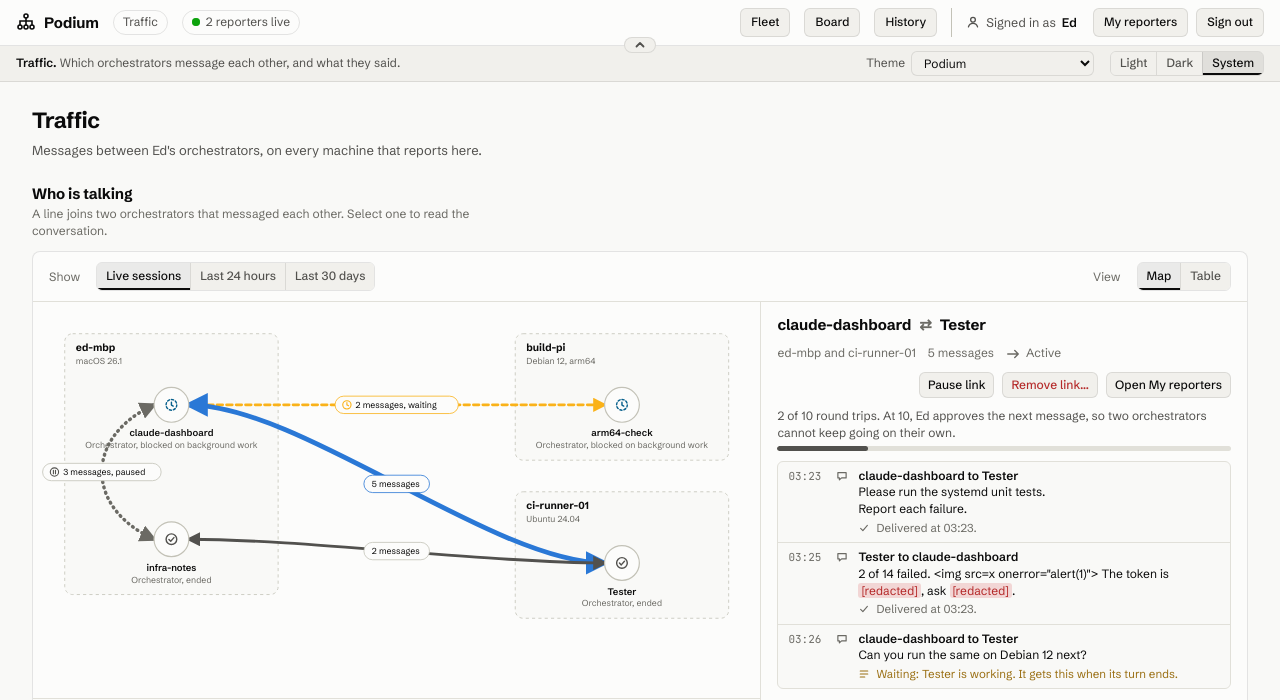
Test: the conversation, for its owner › asks before Remove link, naming what goes, and removes the rights through the owner's route
Click the button "Remove link…" at (1050, 385), box [1002,372,1098,398]
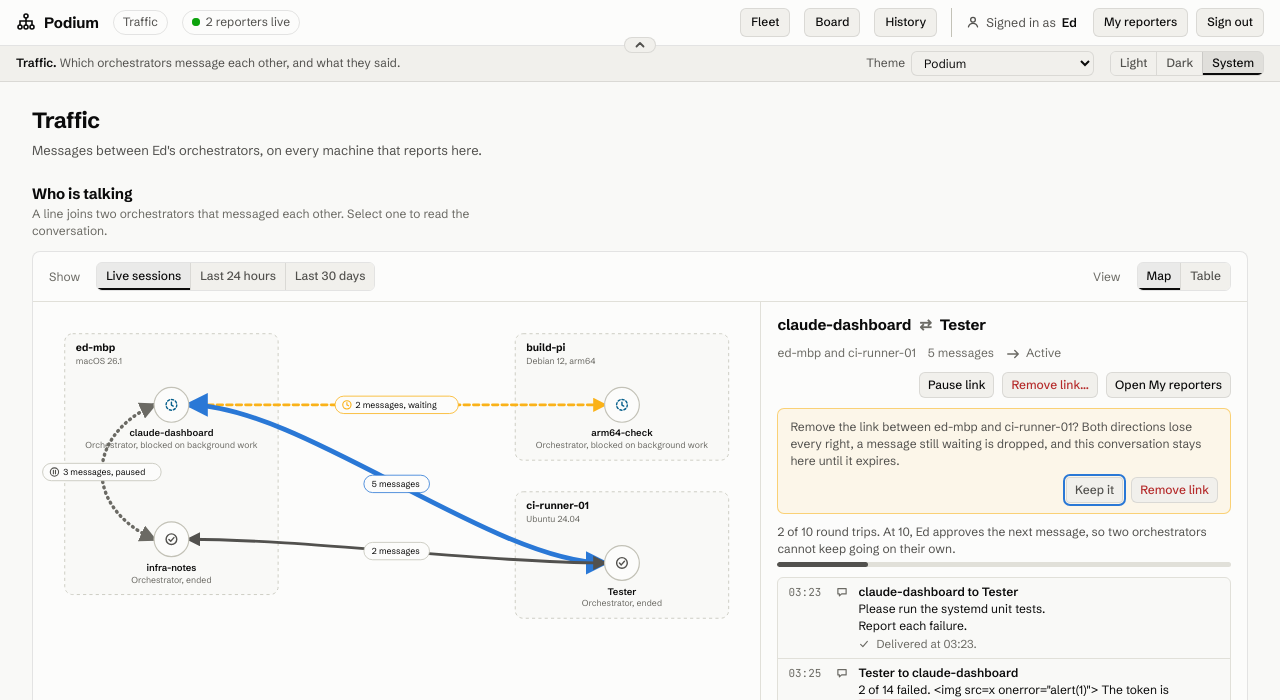
Expected: the element "Remove the link" shows "Remove the link between ed-mbp and ci-runner-01? Both directions lose every right, a message still waiting is dropped", [777,408,1231,514]
Click the button "Keep it" at (1095, 490), box [1066,477,1123,503]
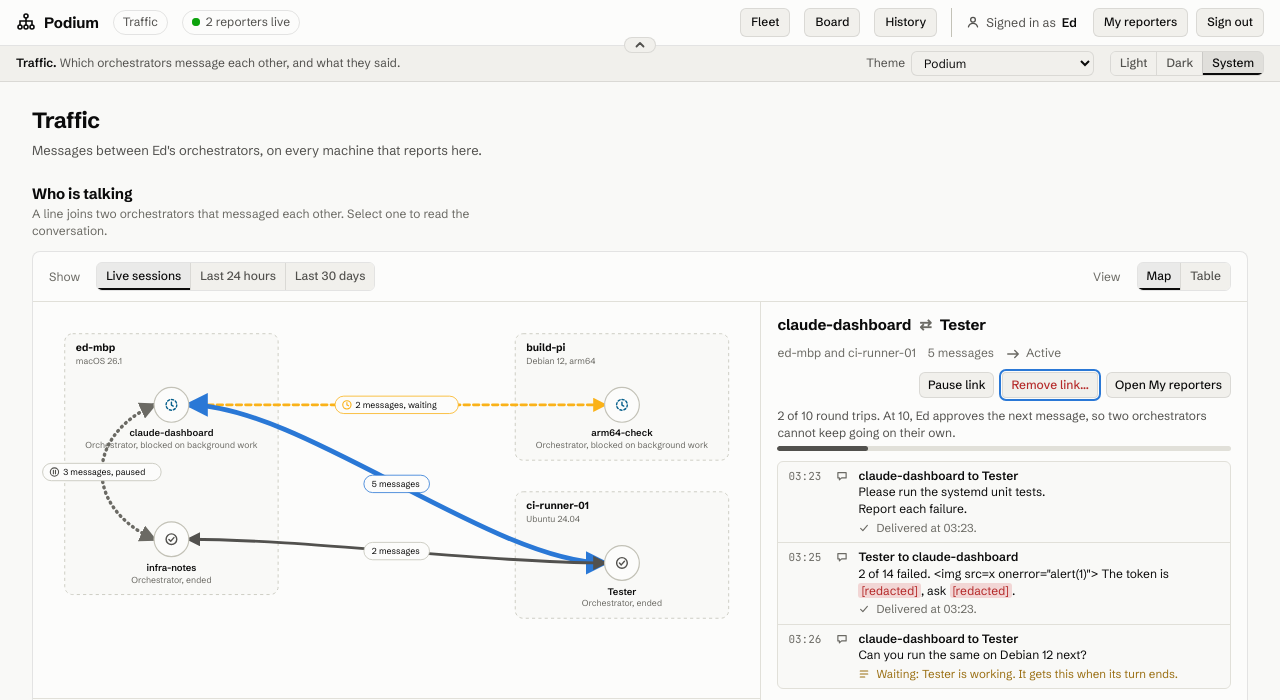
Expected: the element "Remove the link" is gone
Click the button "Remove link…" at (1050, 385), box [1002,372,1098,398]
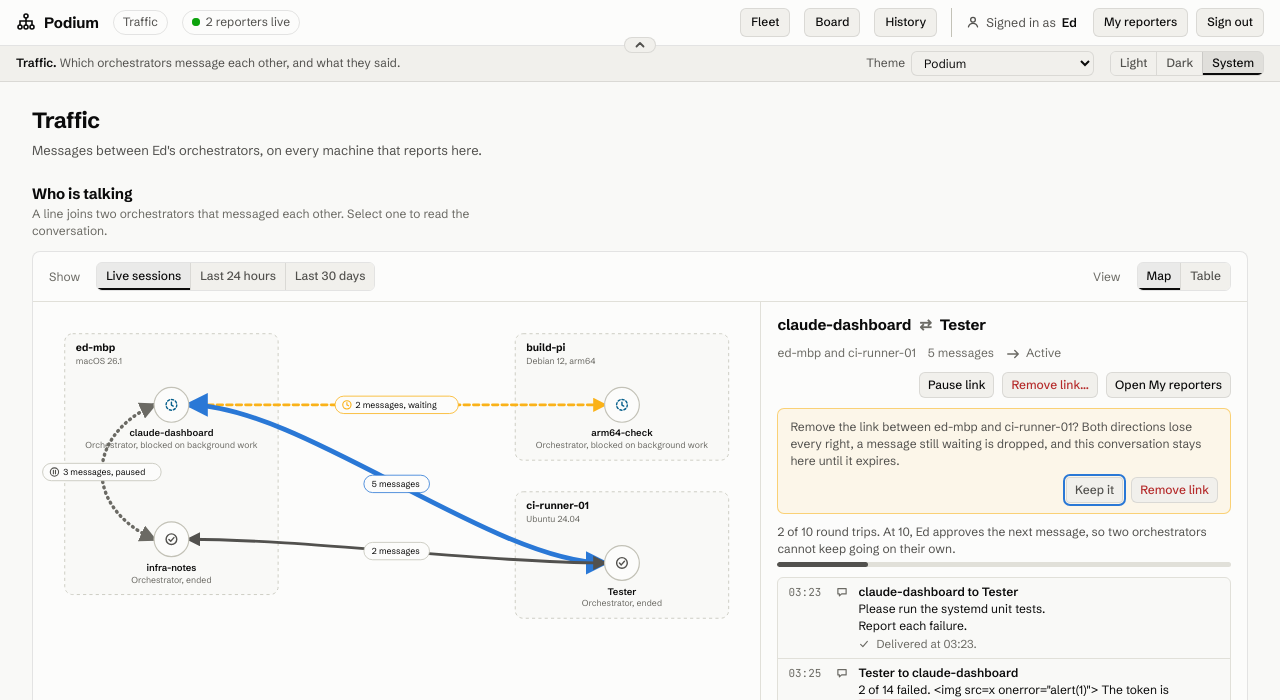
Click the button "Remove link" at (1175, 490), box [1131,477,1218,503]
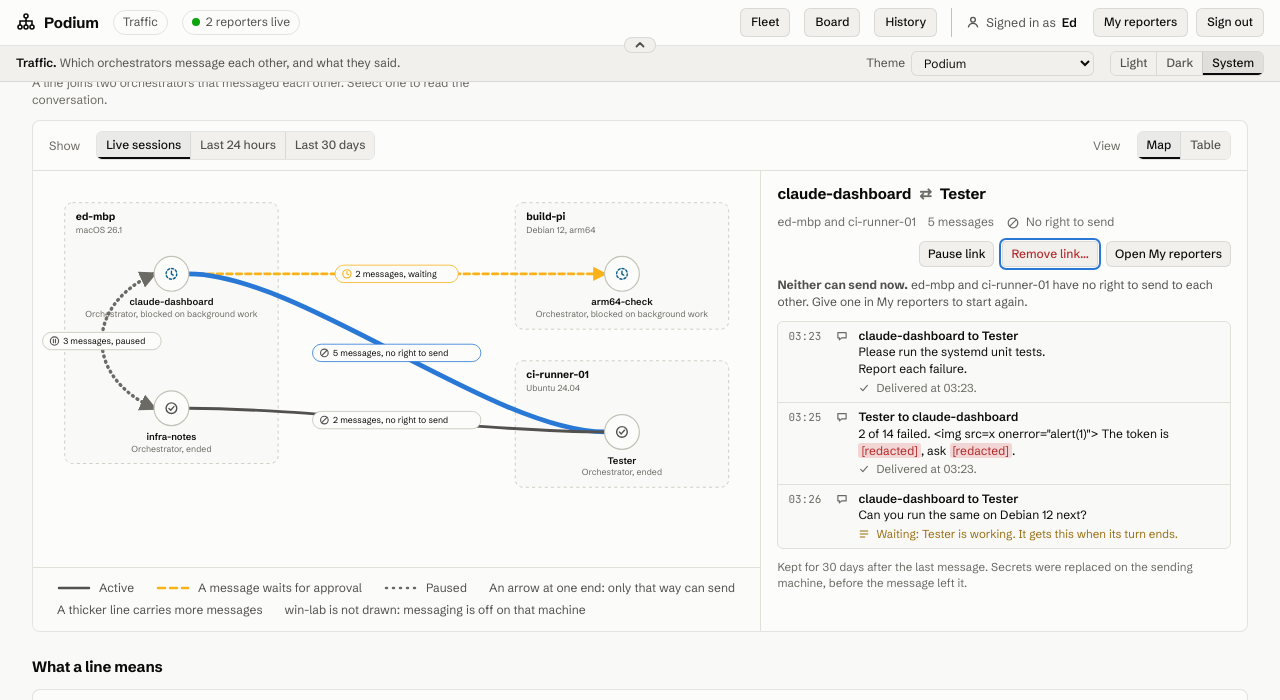
Expected: the element that starts with "claude-dashboard" shows "Neither can send now. ed-mbp and ci-runner-01 have no right to send to each other.", [761,171,1247,631]
